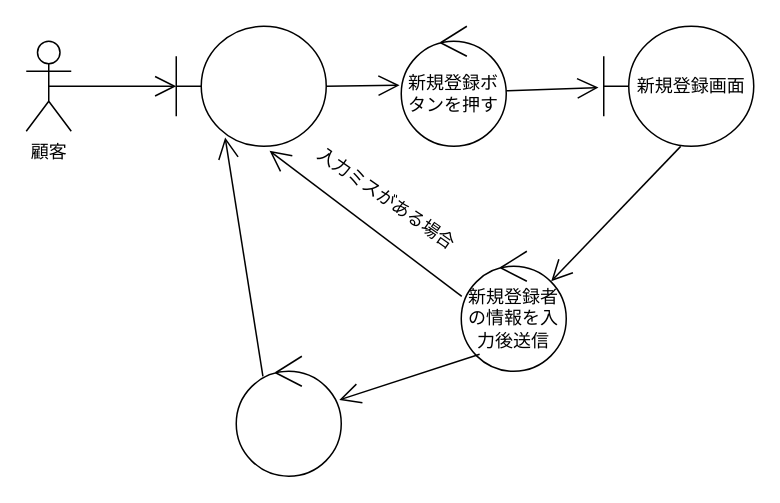
Some shapes in this 780 by 503 pixel diagram are drawn without their labels. Each missing label, with the centre of its shape:
"システムが認証" goes at point (288, 415).
"ログイン画面" goes at point (250, 85).
